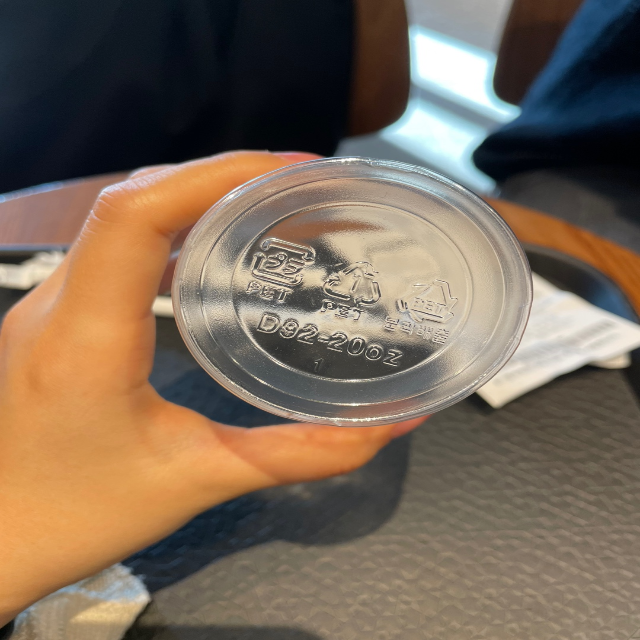pet: (384, 273, 458, 345), (240, 236, 308, 308), (316, 255, 381, 326)
